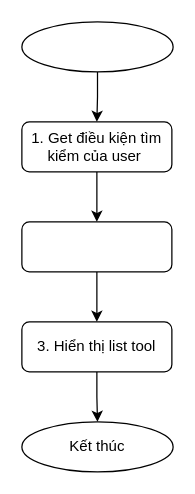
Some shapes in this 195 by 494 pixel diagram are drawn without their labels. The centre of each missing label's shape, as x and y in pixels:
"2. Get list tool theo điều kiện tìm kiếm" belongs at [96,246].
"Bắt đầu" belongs at [97,46].
